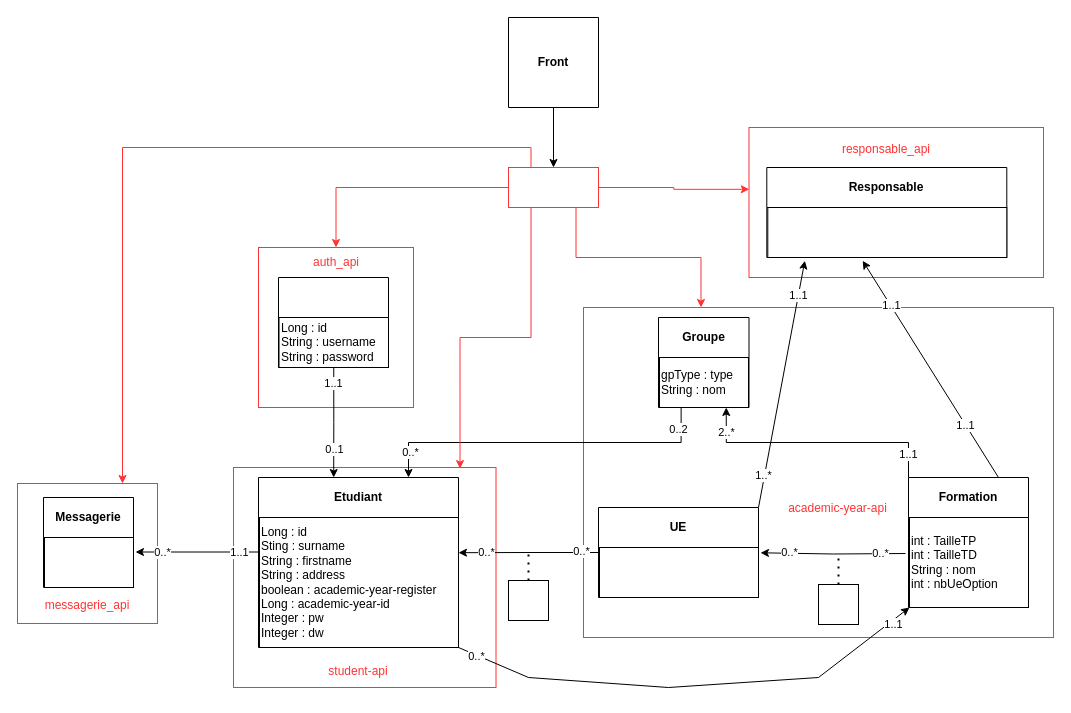
The diagram is 1071 pixels wide and 713 high, and some of its shapes have lost their labels. Here are the shapes that lost their labels. From the top down, the box of each, then its label:
(508, 166, 598, 208): core_api
(767, 206, 1007, 258): String : nom String : email
(278, 276, 388, 368): Acces
(44, 536, 134, 588): ObjectID : id String : txt boolean : lu
(598, 546, 758, 598): boolean : estObligatoire int : capacite String : nom
